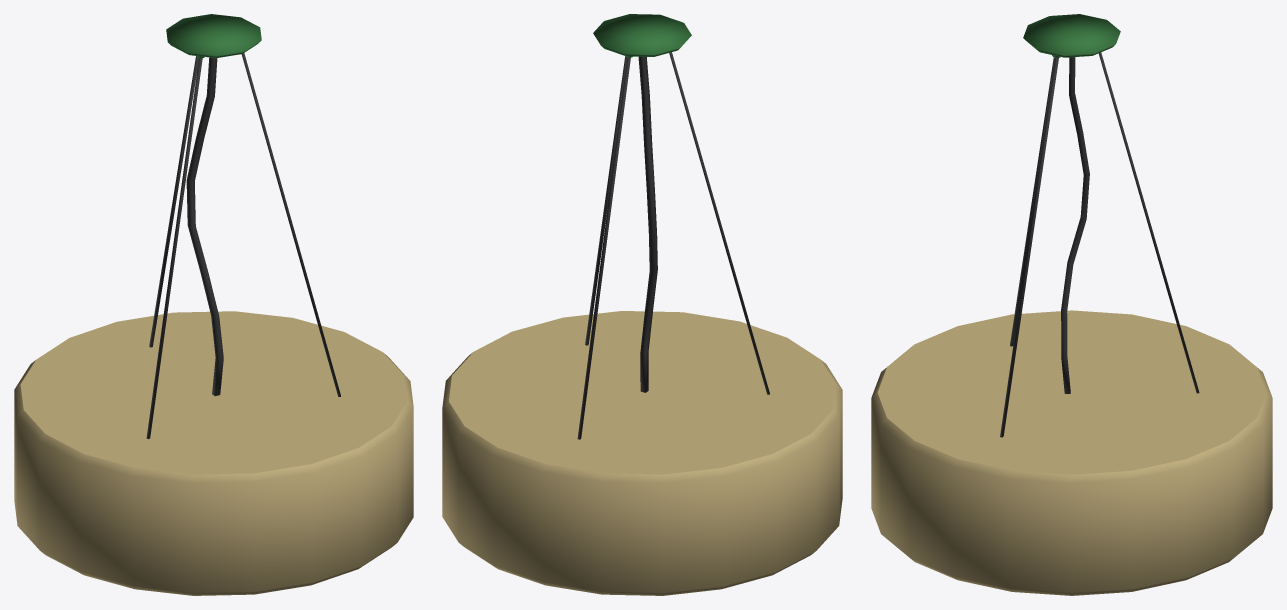
File: LightTopDesign08.FBX
3 views of the same model, side by side, from view 1: azimuth 30°, elevation 25°; view 2: azimuth 150°, elevation 25°; view 3: azimuth 270°, elevation 25° (orthographic).
Visible parts, largest first — view 1: LightTopDesign08; view 2: LightTopDesign08; view 3: LightTopDesign08.
Part boxes in pixels (box(x1,y1,x2,y2)): LightTopDesign08: box(14, 14, 413, 595); LightTopDesign08: box(442, 14, 842, 595); LightTopDesign08: box(871, 14, 1272, 595).
Size of the model in its own units: 42 by 42 by 55.3.
